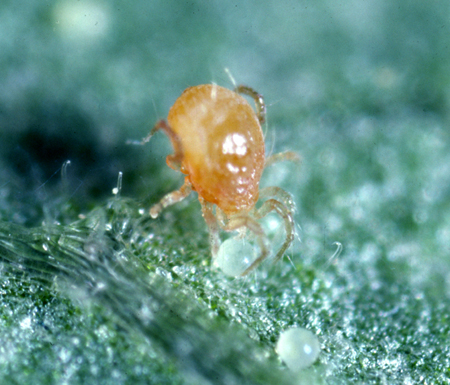Mites: (146, 62, 304, 285)
